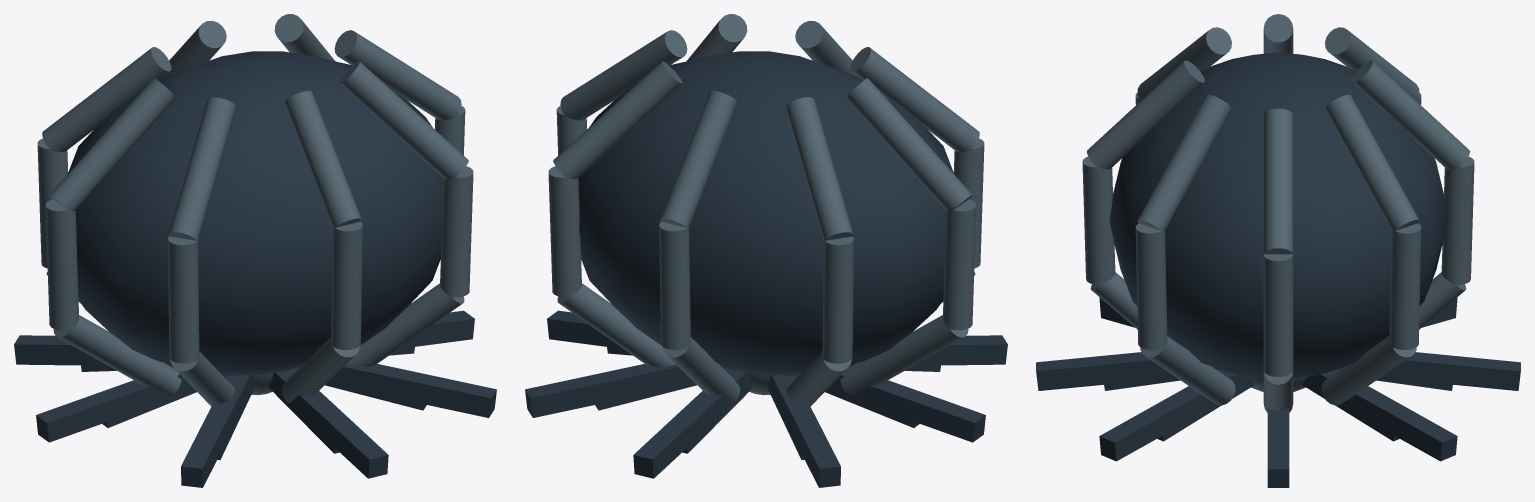
File: CMU3DHiveHiveCoreXenoConstructionNode.glb
3 renders of one model, left to right at view 1: azimuth 30°, elevation 25°; view 2: azimuth 150°, elevation 25°; view 3: azimuth 270°, elevation 25°, orthographic.
Visible parts, largest first — view 1: complete organ body, raised curved organ rib (×18), anchoring root (×9); view 2: complete organ body, raised curved organ rib (×18), anchoring root (×9); view 3: complete organ body, raised curved organ rib (×18), anchoring root (×7).
Boxes of the visible parts, x1,y1,x2,y2 form: complete organ body: (68,51,443,375); raised curved organ rib (×18): (37,14,473,406); anchoring root (×9): (14,310,496,487); complete organ body: (578,51,953,375); raised curved organ rib (×18): (548,14,984,406); anchoring root (×9): (525,310,1007,487); complete organ body: (1109,52,1447,378); raised curved organ rib (×18): (1082,14,1474,412); anchoring root (×7): (1036,352,1520,487).
Bounding box in the file's own units: 1.25 × 0.9296 × 1.25.
